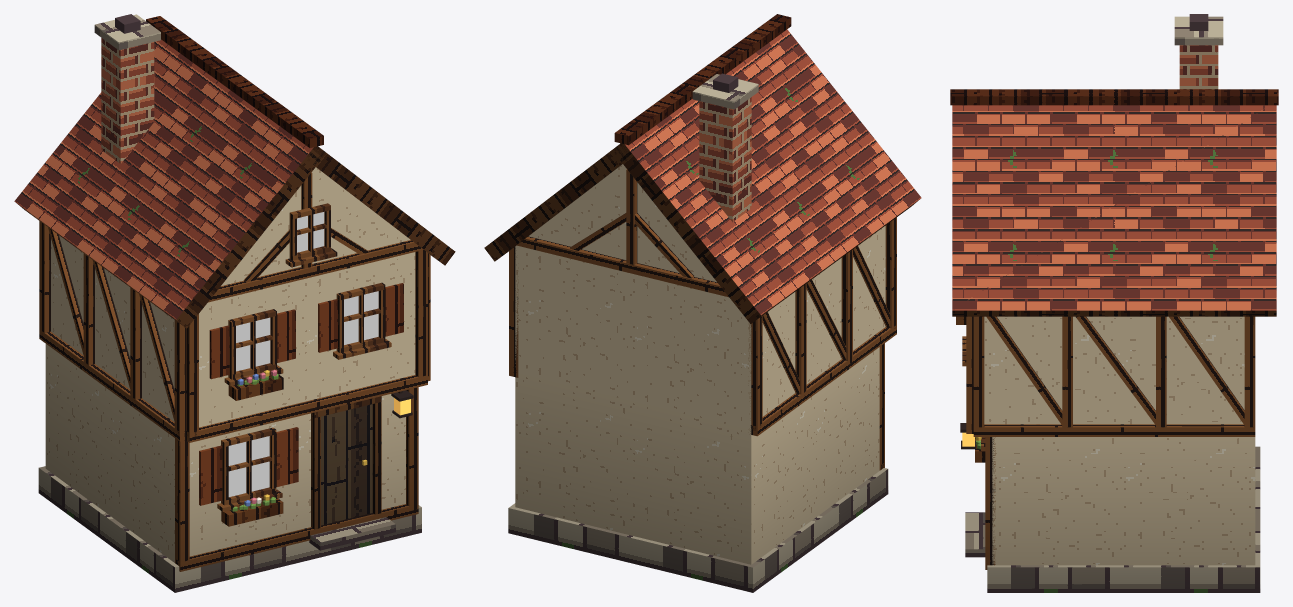
The model's file is cottage_tall.glb.
3 renders of one model, left to right at view 1: azimuth 30°, elevation 25°; view 2: azimuth 150°, elevation 25°; view 3: azimuth 270°, elevation 25°, orthographic.
Visible parts, largest first — view 1: cottage_tall; view 2: cottage_tall; view 3: cottage_tall.
Part boxes in pixels (box(x1,y1,x2,y2)): cottage_tall: box(14, 14, 455, 592); cottage_tall: box(484, 14, 921, 592); cottage_tall: box(950, 14, 1278, 592).
Bounding box in the file's own units: 5.16 × 8.51 × 5.24.
Materials: 8 (5 with a texture image).
